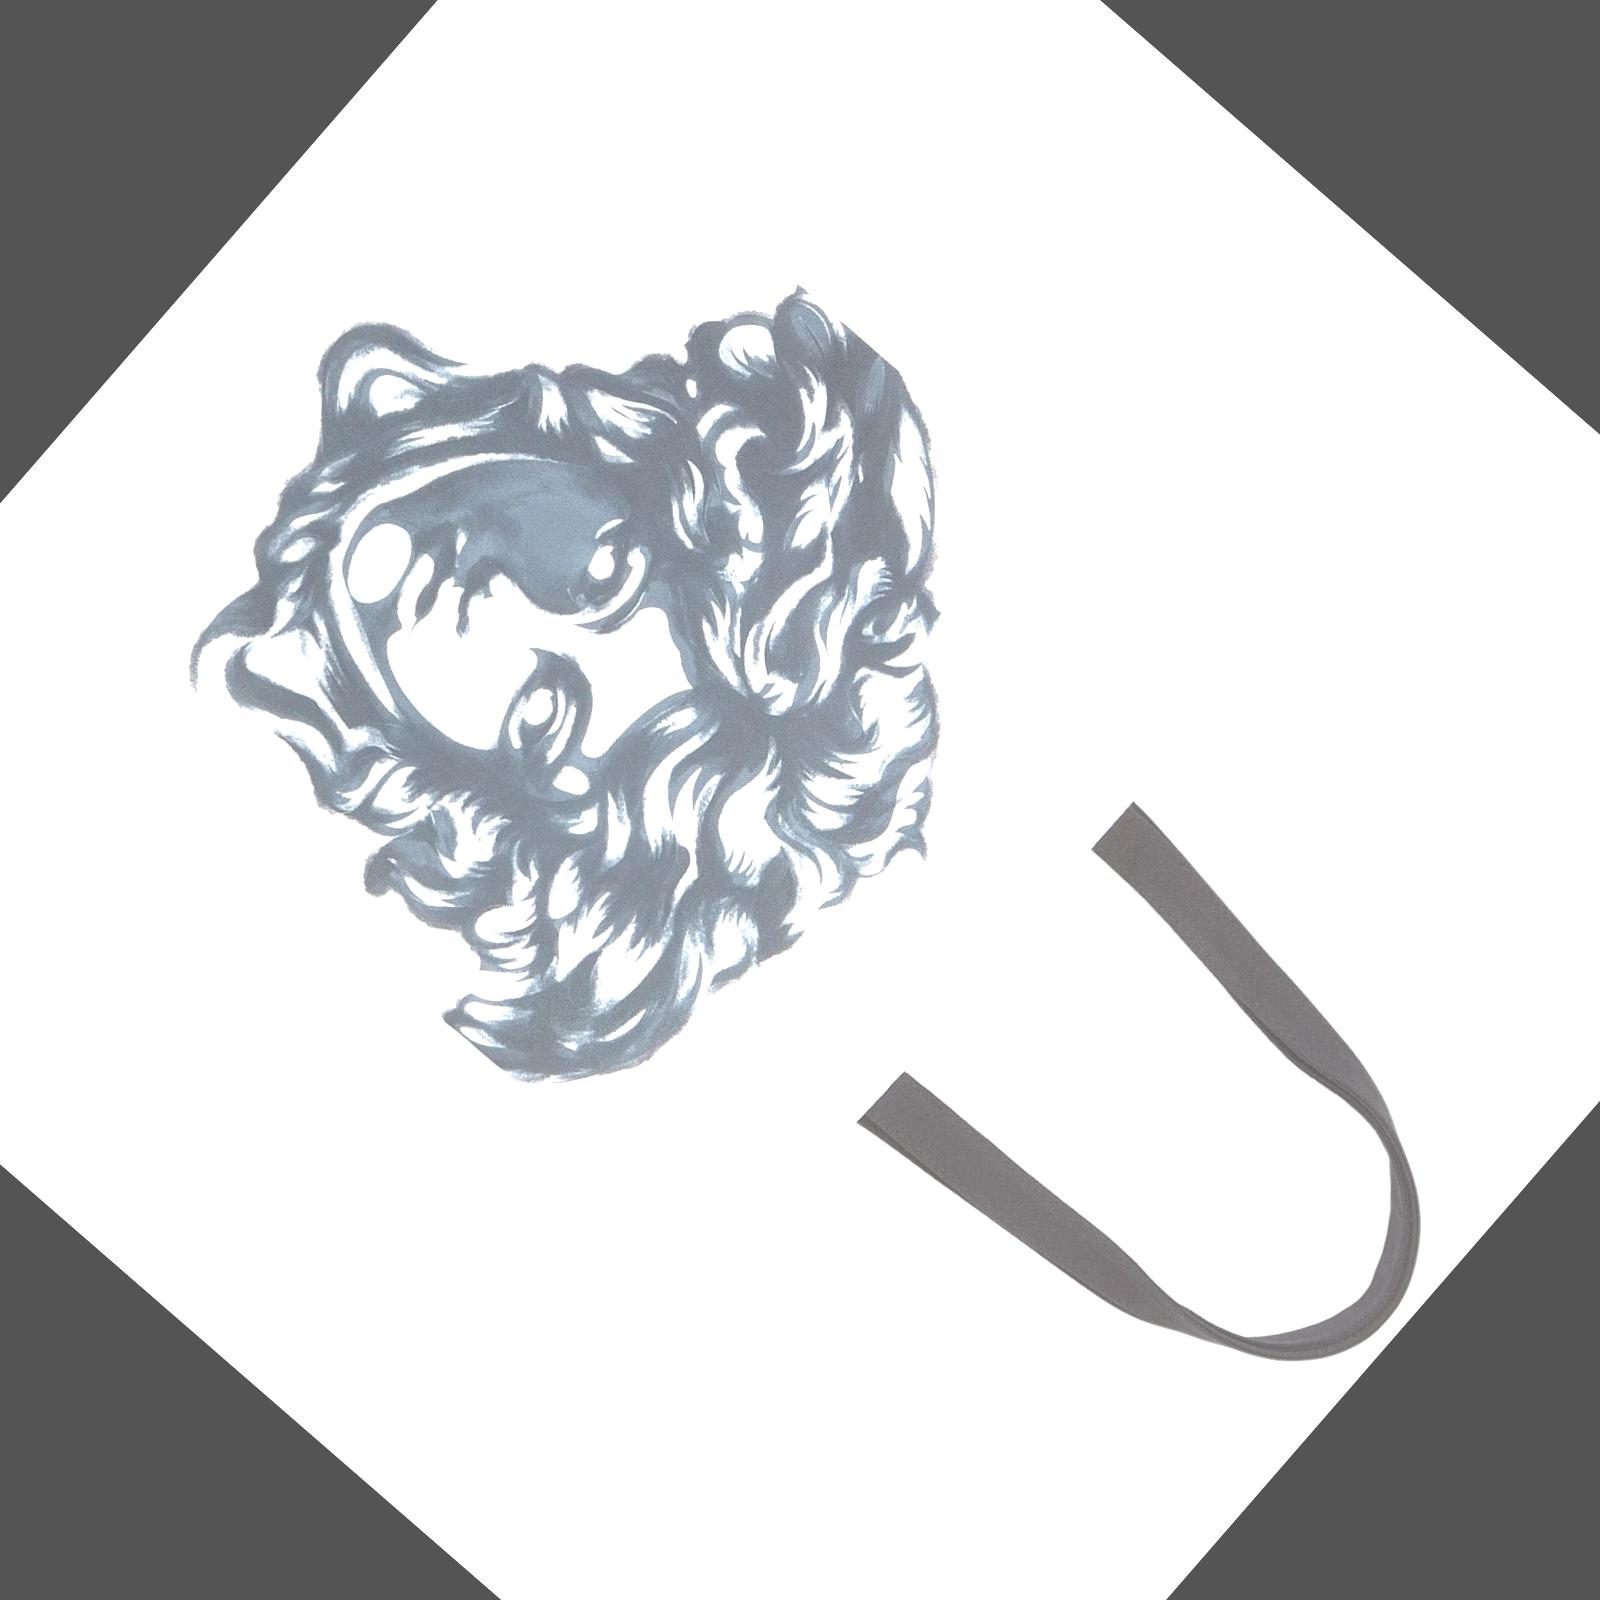VERSACE: (40, 78, 1159, 1197)
